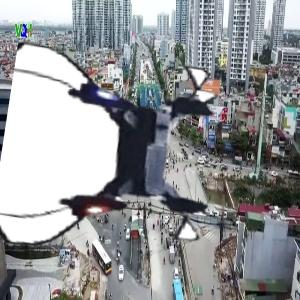drone: (4, 41, 227, 264)
